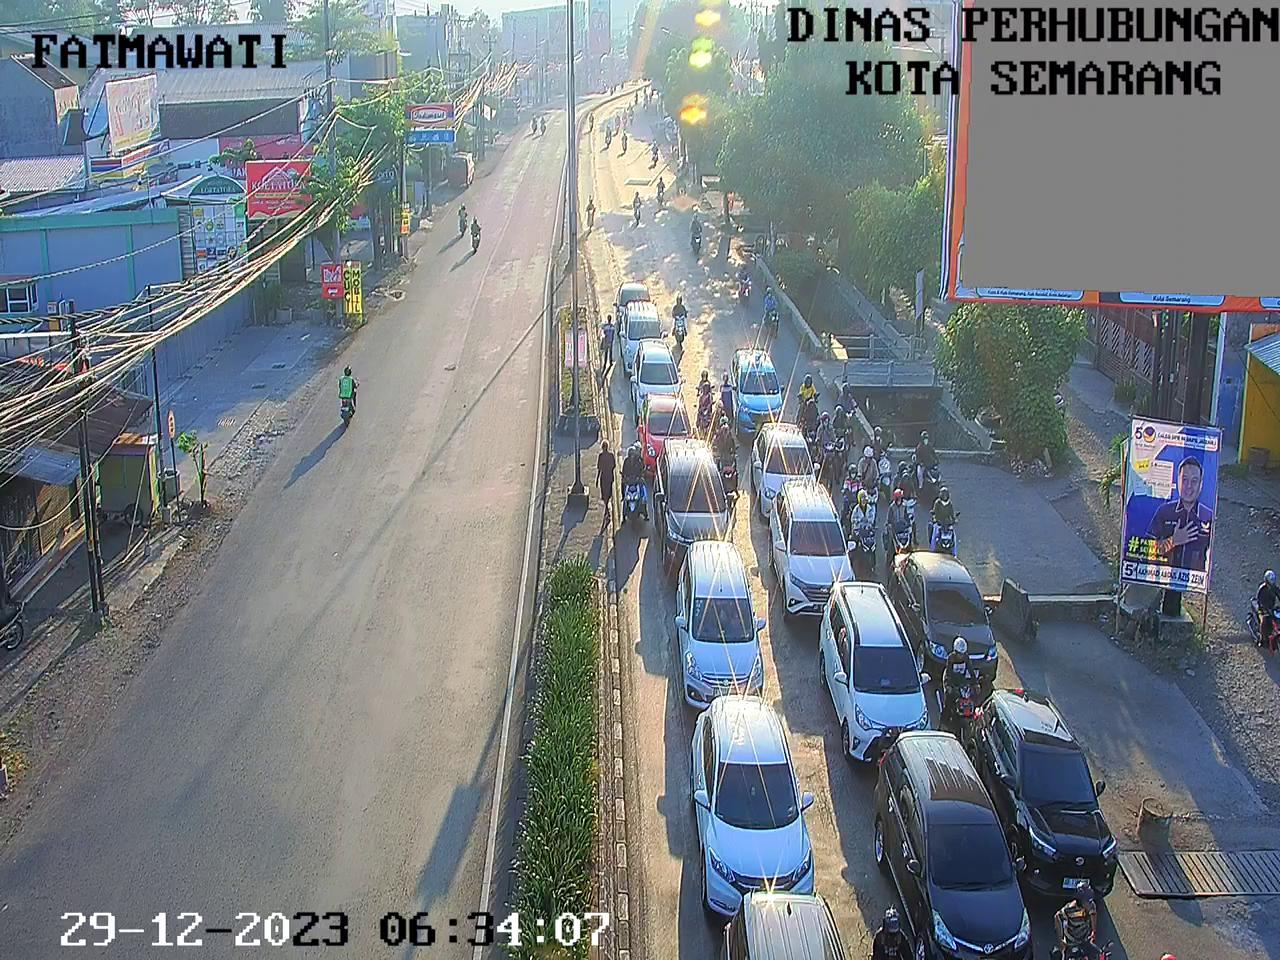car: (894, 741, 1046, 960), (683, 701, 831, 911), (981, 694, 1134, 897), (874, 537, 1020, 683), (817, 584, 928, 740), (675, 545, 767, 719), (783, 477, 868, 625), (714, 884, 849, 960), (657, 447, 721, 550), (758, 424, 818, 499), (730, 347, 781, 422), (630, 340, 688, 403), (645, 398, 708, 455), (617, 301, 677, 350), (612, 285, 654, 322), (696, 368, 716, 424)
motorcycle: (937, 632, 991, 740), (924, 447, 973, 563), (856, 896, 940, 960), (1054, 882, 1121, 960), (619, 443, 661, 540), (847, 490, 884, 565), (917, 428, 954, 497), (888, 485, 918, 558), (839, 467, 866, 540), (897, 461, 927, 522), (792, 370, 824, 427), (877, 425, 905, 490), (714, 425, 740, 492), (827, 408, 858, 462), (708, 393, 735, 451), (668, 298, 697, 350), (759, 290, 789, 340), (813, 416, 835, 482), (859, 456, 887, 506), (737, 263, 762, 313), (841, 386, 864, 437), (686, 217, 710, 259), (628, 195, 651, 230), (655, 178, 675, 209), (582, 200, 600, 232), (648, 142, 667, 169), (600, 125, 615, 154), (621, 132, 636, 160), (677, 177, 689, 203), (585, 108, 595, 132), (618, 110, 630, 129), (641, 95, 651, 113), (624, 98, 635, 113), (612, 115, 621, 131), (638, 81, 647, 96), (629, 111, 637, 126), (631, 91, 638, 105)
